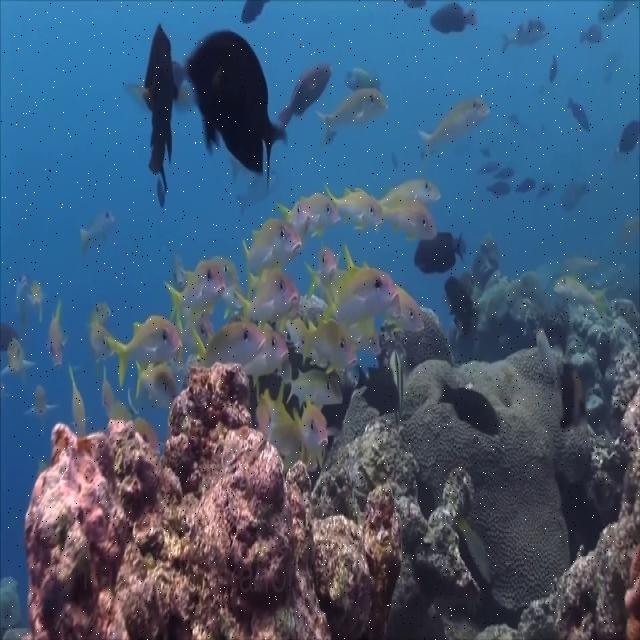fish: (187, 28, 290, 195), (124, 25, 190, 204), (327, 245, 399, 328), (105, 315, 182, 386), (312, 85, 389, 150), (416, 100, 491, 166), (159, 259, 227, 319), (439, 375, 499, 436), (280, 61, 332, 126), (232, 272, 298, 323), (241, 323, 292, 388), (243, 215, 302, 271), (352, 358, 403, 420), (323, 183, 387, 232), (193, 322, 264, 366), (300, 320, 349, 375), (380, 194, 435, 241), (415, 228, 467, 273), (446, 278, 486, 336), (304, 247, 341, 302), (22, 382, 60, 434), (287, 369, 343, 404), (557, 276, 606, 315), (135, 361, 177, 406), (0, 337, 39, 384), (79, 204, 116, 253), (301, 195, 342, 239), (292, 403, 327, 451), (429, 3, 479, 34), (70, 365, 88, 437), (386, 178, 442, 201), (47, 297, 64, 367), (282, 198, 310, 233)
sea-floor: (23, 362, 483, 639), (439, 299, 639, 639)
